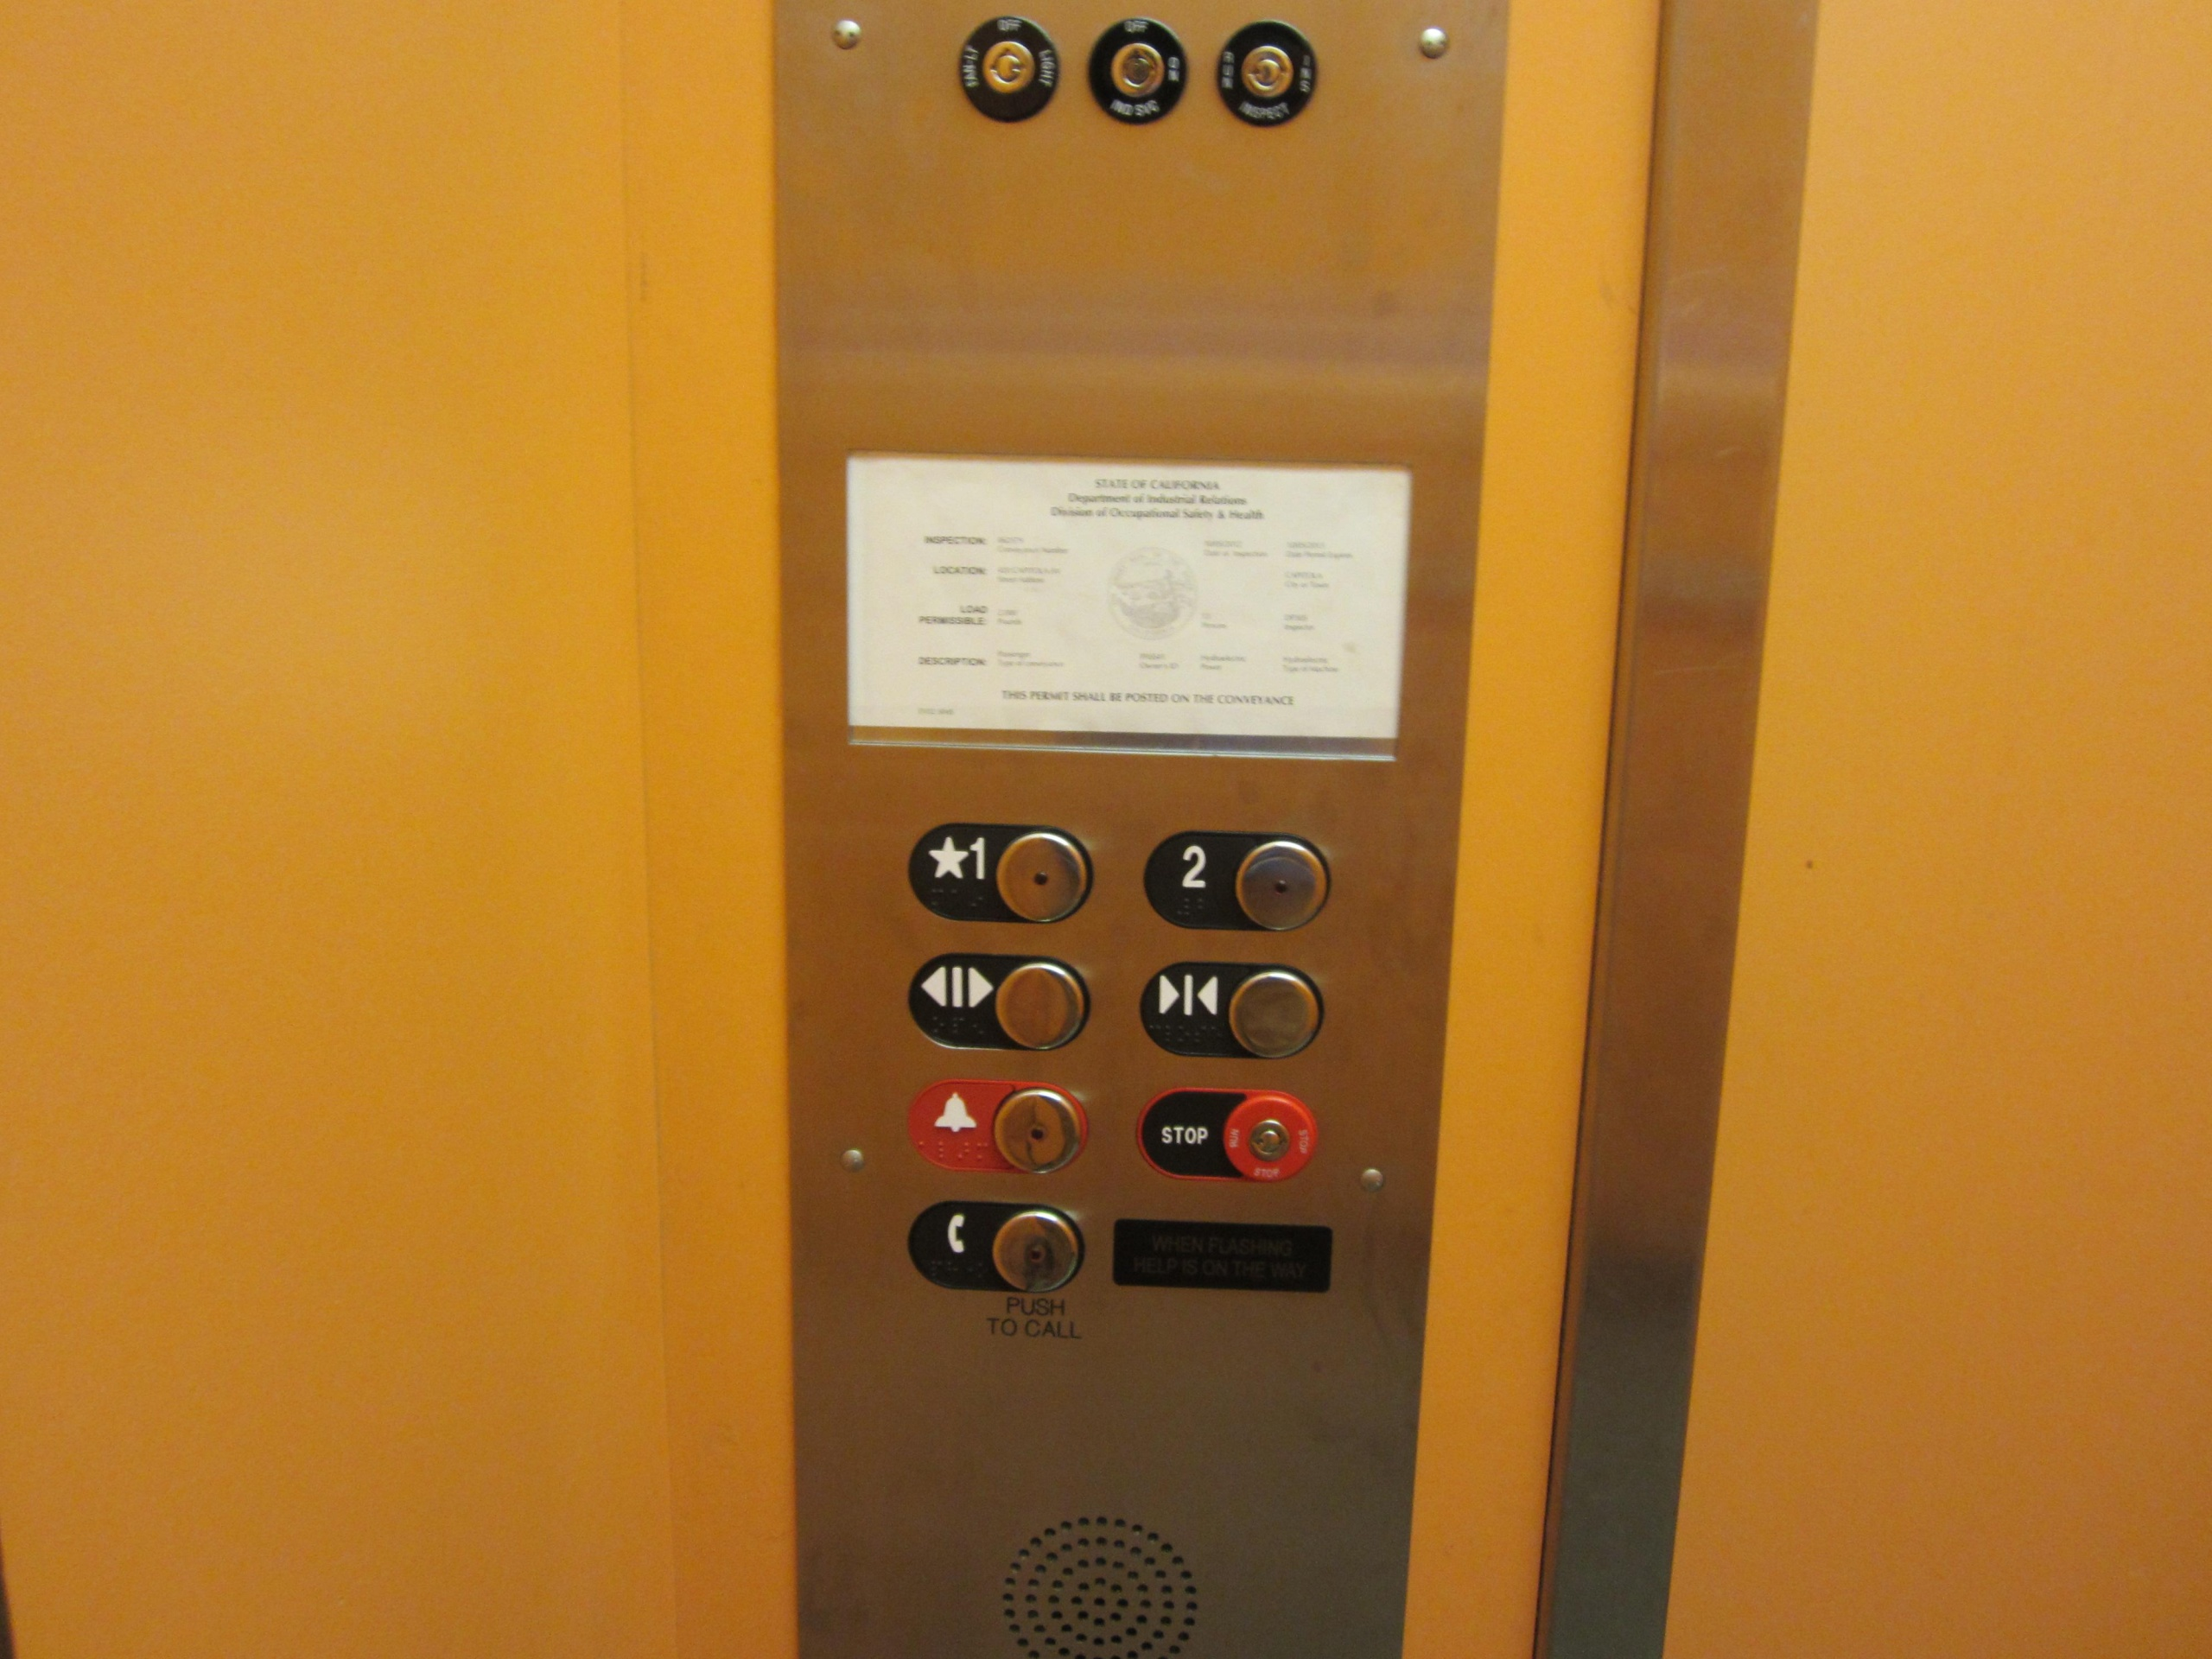2: (1141, 826, 1334, 934)
alarm: (906, 1075, 1092, 1178)
call: (907, 1201, 1087, 1293)
close: (1137, 957, 1329, 1061)
keyhole: (1216, 14, 1327, 125), (953, 10, 1062, 122), (1082, 17, 1191, 125)
open: (906, 948, 1094, 1053)
s1: (909, 817, 1097, 925)
stop: (1137, 1086, 1322, 1187)
